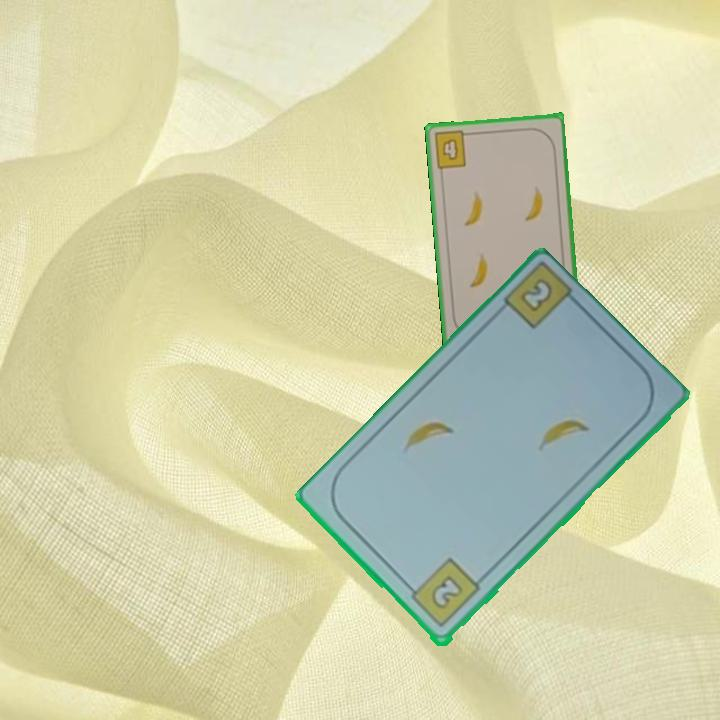2b: (403, 555, 483, 632), (516, 275, 556, 316)
4b: (430, 127, 474, 171)
